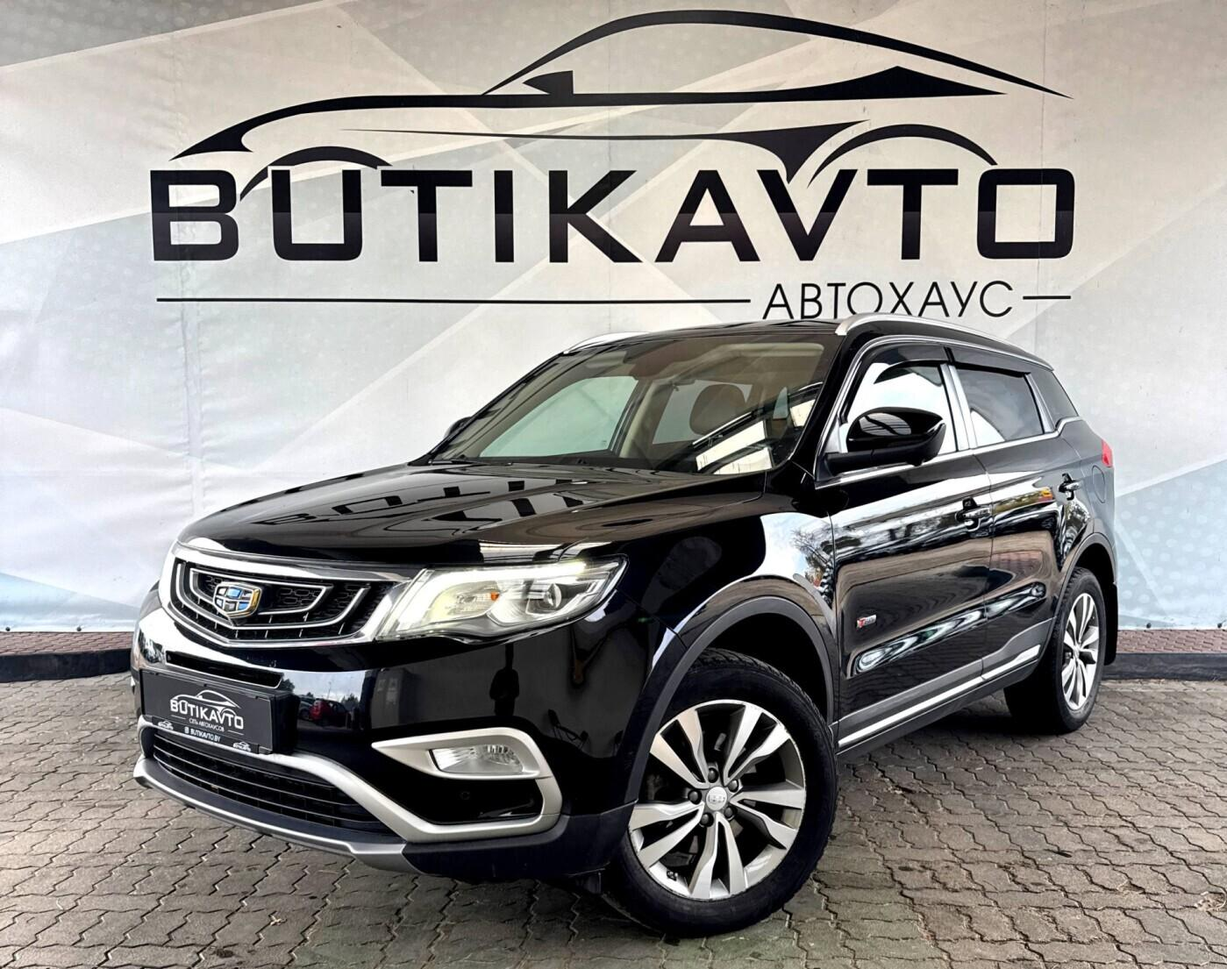Atlas_2016-2023: (120, 314, 1125, 938)
